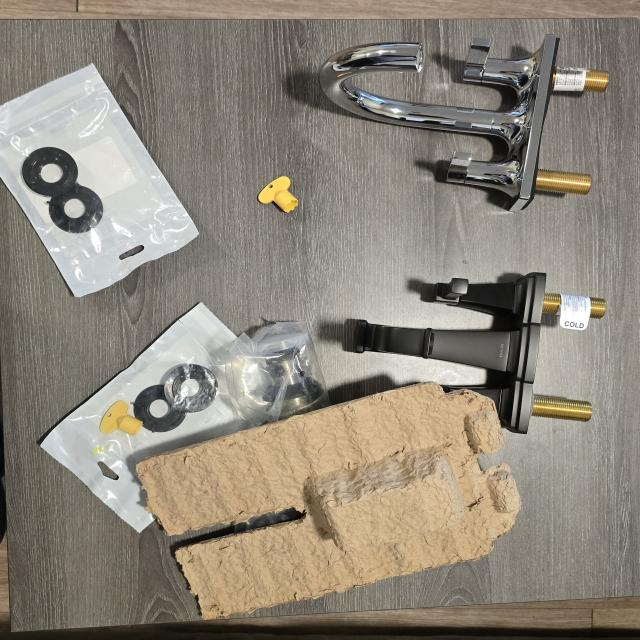10: (321, 34, 608, 211)
11o: (225, 322, 329, 425)
12o: (41, 303, 261, 531)
13: (0, 65, 198, 296)
14: (258, 176, 297, 212)
9o: (355, 272, 605, 433)
